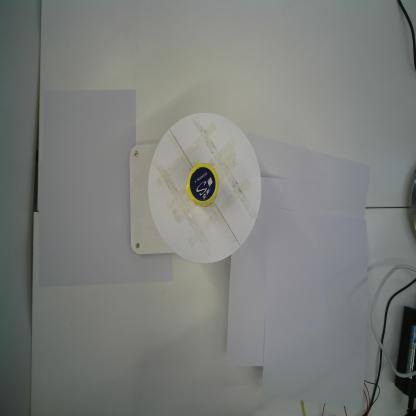Gum: (186, 160, 218, 206)
